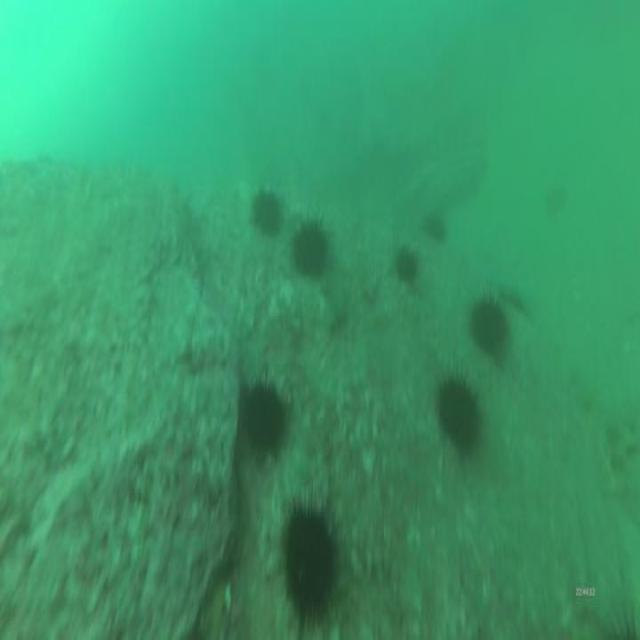echinus: (282, 500, 340, 628), (235, 370, 292, 468), (438, 373, 484, 460), (290, 217, 332, 284), (470, 292, 508, 365), (252, 182, 286, 242), (392, 237, 421, 289), (420, 206, 446, 247)
